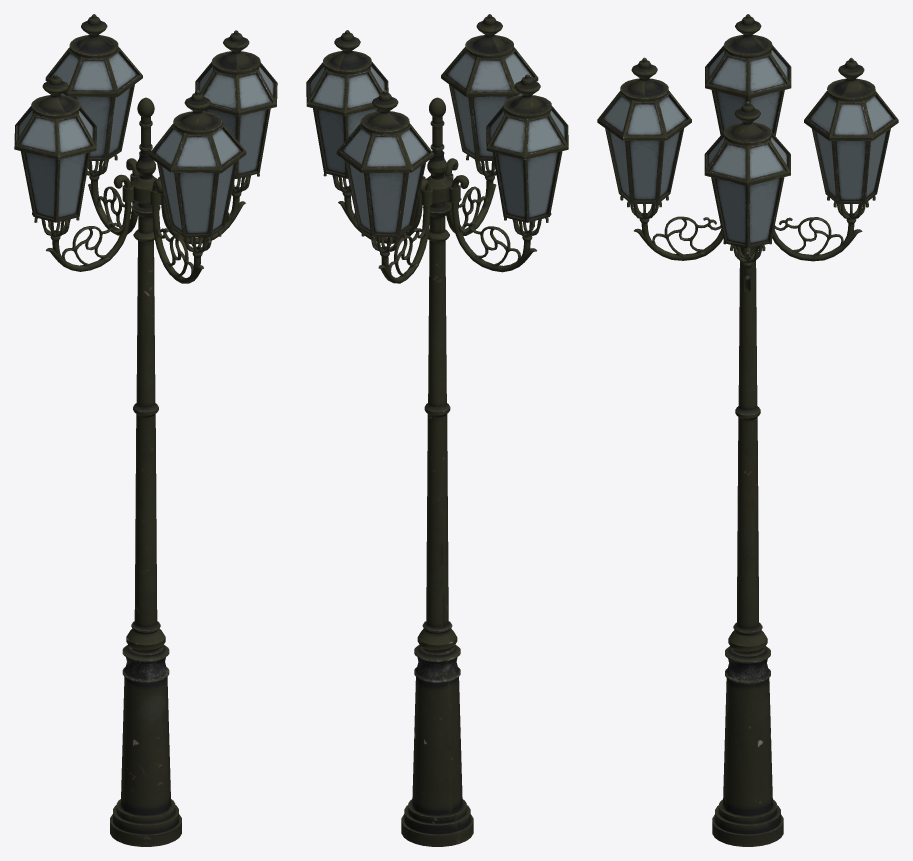
Rendered from Street_Lamp.obj.
3 renders of one model, left to right at view 1: azimuth 30°, elevation 25°; view 2: azimuth 150°, elevation 25°; view 3: azimuth 270°, elevation 25°, orthographic.
Visible parts, largest first — view 1: Lamppost, light_VER1, light_VER1.003, light_VER1.001, light_VER1.002, 1_VER1.003, 1_VER1, cap_VER1, cap_VER1.002, cap_VER1.003, cap_VER1.001, 1_VER1.001 (+1 smaller); view 2: Lamppost, light_VER1.001, light_VER1.003, light_VER1, light_VER1.002, 1_VER1.003, 1_VER1.001, cap_VER1.001, cap_VER1.003, cap_VER1.002, cap_VER1, 1_VER1 (+1 smaller); view 3: Lamppost, light_VER1.001, light_VER1, light_VER1.002, light_VER1.003, 1_VER1.001, 1_VER1, cap_VER1, cap_VER1.002, cap_VER1.001, cap_VER1.003.
Part boxes in pixels (<box>): Lamppost: <box>110,97,181,846</box>; light_VER1: <box>149,123,246,237</box>; light_VER1.003: <box>14,106,96,222</box>; light_VER1.001: <box>45,47,142,161</box>; light_VER1.002: <box>195,62,277,178</box>; 1_VER1.003: <box>46,174,131,271</box>; 1_VER1: <box>152,179,203,283</box>; cap_VER1: <box>173,90,222,134</box>; cap_VER1.002: <box>211,30,260,74</box>; cap_VER1.003: <box>31,74,80,118</box>; cap_VER1.001: <box>69,14,118,58</box>; 1_VER1.001: <box>88,158,139,235</box>; Lamppost: <box>401,97,473,846</box>; light_VER1.001: <box>336,123,433,237</box>; light_VER1.003: <box>486,106,568,222</box>; light_VER1: <box>441,47,538,161</box>; light_VER1.002: <box>306,61,388,178</box>; 1_VER1.003: <box>451,175,536,272</box>; 1_VER1.001: <box>378,179,430,283</box>; cap_VER1.001: <box>360,90,409,134</box>; cap_VER1.003: <box>503,74,551,118</box>; cap_VER1.002: <box>323,30,371,74</box>; cap_VER1: <box>465,14,514,58</box>; 1_VER1: <box>444,158,496,235</box>; Lamppost: <box>712,103,783,846</box>; light_VER1.001: <box>804,91,898,203</box>; light_VER1: <box>597,91,691,203</box>; light_VER1.002: <box>704,132,790,248</box>; light_VER1.003: <box>705,45,791,135</box>; 1_VER1.001: <box>772,213,862,261</box>; 1_VER1: <box>634,213,723,260</box>; cap_VER1: <box>620,57,668,101</box>; cap_VER1.002: <box>723,101,771,145</box>; cap_VER1.001: <box>827,57,875,101</box>; cap_VER1.003: <box>724,14,772,57</box>.
Bounding box in the file's own units: 1.14 × 3.24 × 1.14.
1 material, 1 textured.
